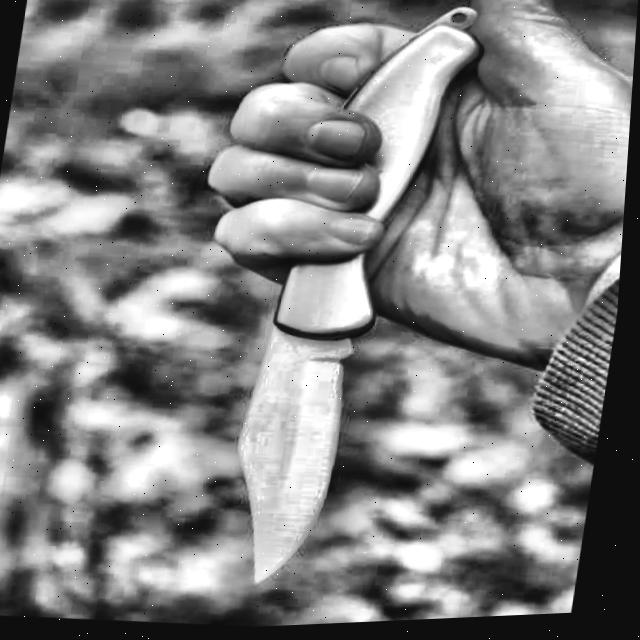pisau: (199, 0, 505, 613)
